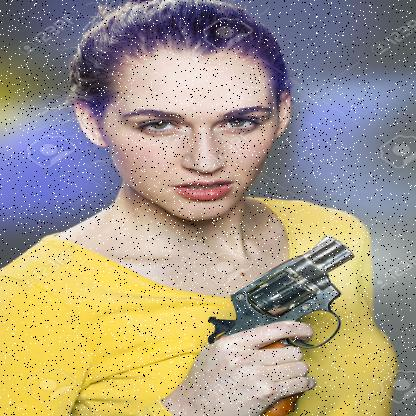pistol: (206, 238, 358, 350)
